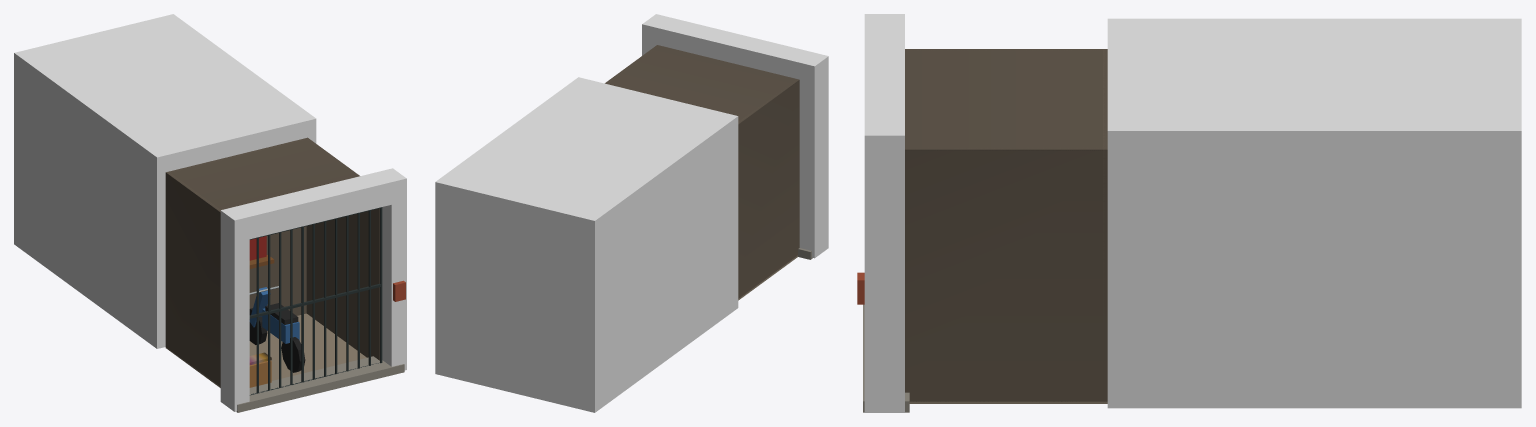
The model's file is tret_nha_o_32.glb.
3 views of the same model, side by side, from view 1: azimuth 30°, elevation 25°; view 2: azimuth 150°, elevation 25°; view 3: azimuth 270°, elevation 25° (orthographic). The views are drawn at different scales.
Parts seen in each view (by area): view 1: tret_nha_o_32; view 2: tret_nha_o_32; view 3: tret_nha_o_32.
Part boxes in pixels (x1,y1,x2,y2): tret_nha_o_32: [14, 14, 406, 412]; tret_nha_o_32: [435, 14, 828, 412]; tret_nha_o_32: [857, 14, 1521, 412].
Size of the model in its own units: 3.2 by 3.42 by 7.38.
